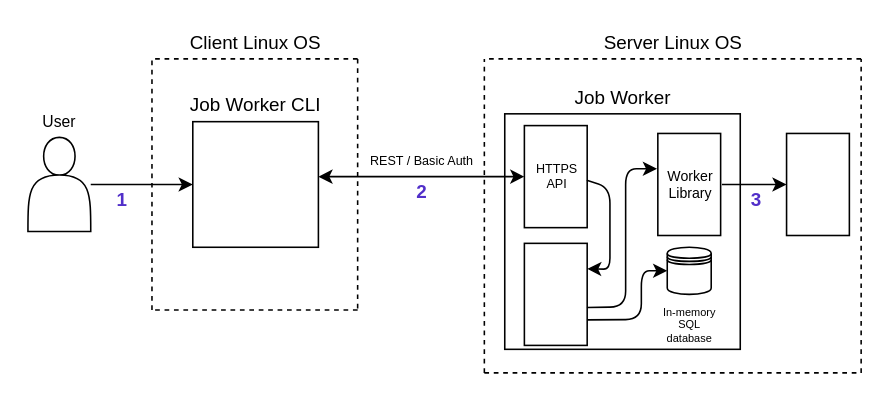
Some shapes in this 890 by 402 pixel diagram are drawn without their labels. Each missing label, with the box of its shape:
Internals: (523, 242, 587, 345)
OS Process API: (785, 132, 849, 236)
